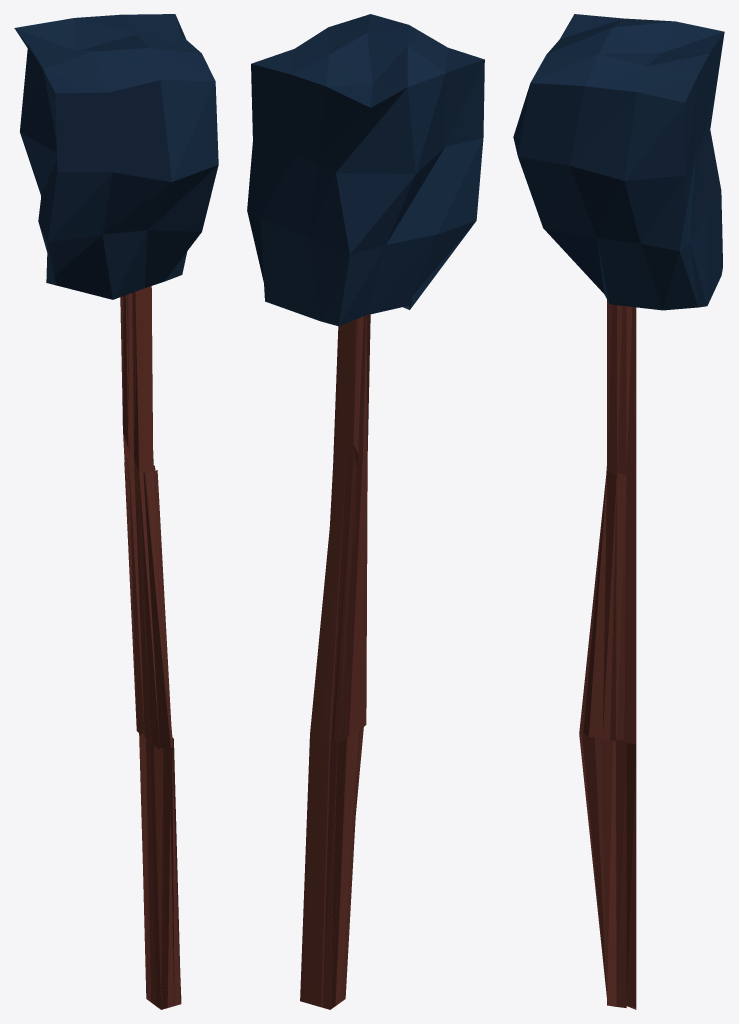
File: island2_tree1.obj
3 renders of one model, left to right at view 1: azimuth 30°, elevation 25°; view 2: azimuth 150°, elevation 25°; view 3: azimuth 270°, elevation 25°, orthographic. The views are drawn at different scales.
Parts seen in each view (by area): view 1: Cube.011_Cube.012, Cube.000_Cube.002; view 2: Cube.011_Cube.012, Cube.000_Cube.002; view 3: Cube.011_Cube.012, Cube.000_Cube.002.
Boxes of the visible parts, x1,y1,x2,y2 form: Cube.011_Cube.012: [14, 14, 218, 299]; Cube.000_Cube.002: [120, 286, 181, 1009]; Cube.011_Cube.012: [247, 14, 484, 326]; Cube.000_Cube.002: [300, 314, 370, 1009]; Cube.011_Cube.012: [513, 14, 724, 310]; Cube.000_Cube.002: [579, 300, 636, 1009].
Size of the model in its own units: 3.06 by 15.2 by 3.1.
